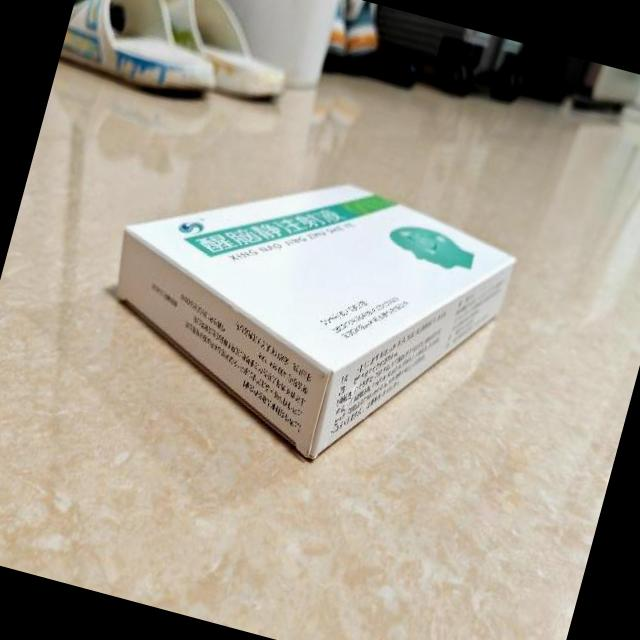box: (79, 126, 524, 496)
